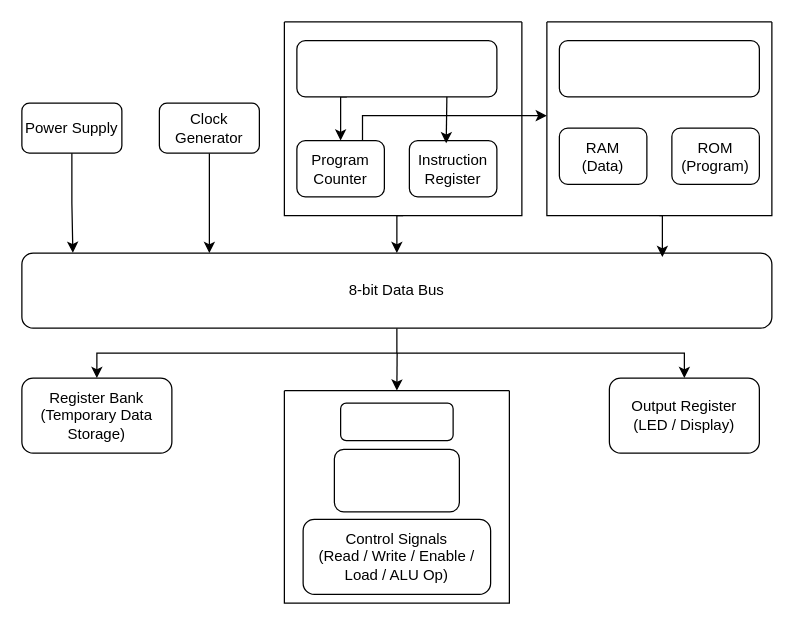
The diagram is 794 pixels wide and 625 high, and some of its shapes have lost their labels. Each missing label, with the box of its shape:
Address: (456, 111, 519, 139)
ALU (Arithmetic & Logic Unit): (333, 448, 459, 512)
Control Unit: (339, 402, 453, 441)
Control Unit (Fetch – Decode – Execute Logic): (296, 39, 497, 97)
Memory Unit: (558, 39, 759, 97)
